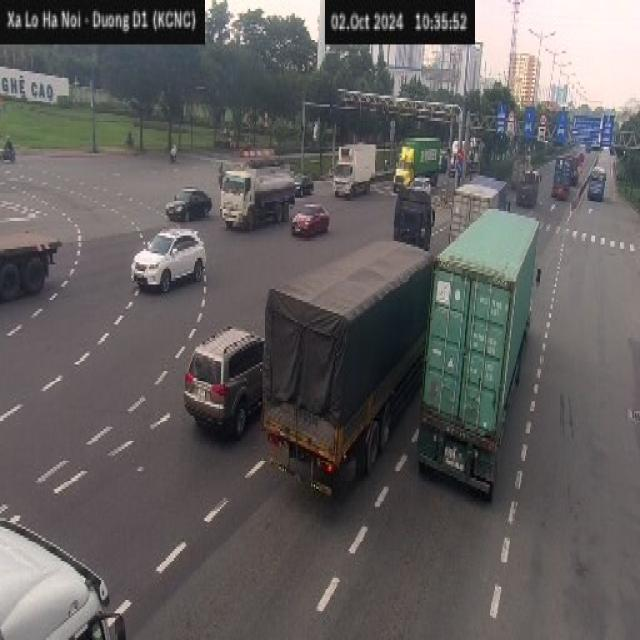car: (130, 227, 206, 291), (165, 187, 211, 220), (290, 202, 329, 236)
container-truck: (416, 207, 540, 498), (0, 518, 125, 638), (392, 136, 440, 191)
truck: (260, 235, 435, 498), (219, 162, 295, 231), (332, 142, 377, 198)
